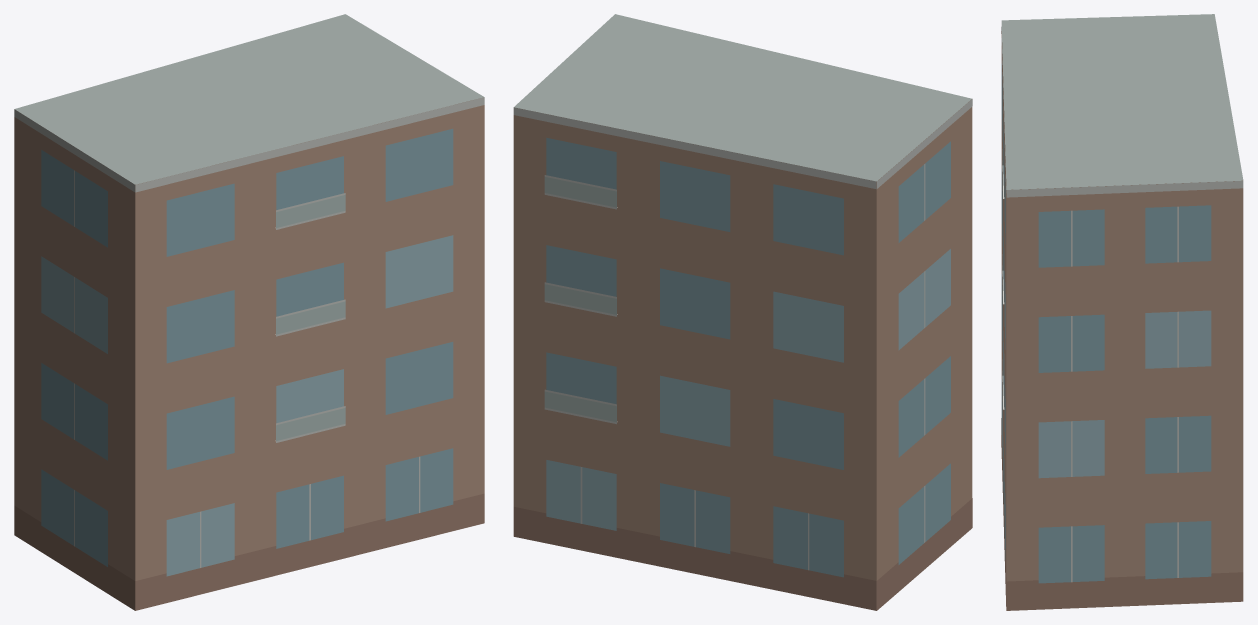
Rendered from survey-upis-32979939.glb.
The picture shows the model from 3 angles, left to right: view 1: azimuth 30°, elevation 25°; view 2: azimuth 150°, elevation 25°; view 3: azimuth 270°, elevation 25°; orthographic projection. The views are drawn at different scales.
Visible parts, largest first — view 1: survey-upis-32979939.tmp; view 2: survey-upis-32979939.tmp; view 3: survey-upis-32979939.tmp.
Boxes of the visible parts, <box> form: survey-upis-32979939.tmp: <box>14,14,484,610</box>; survey-upis-32979939.tmp: <box>513,14,972,610</box>; survey-upis-32979939.tmp: <box>1001,14,1243,610</box>.
Bounding box in the file's own units: 12.07 × 13.45 × 7.02.
